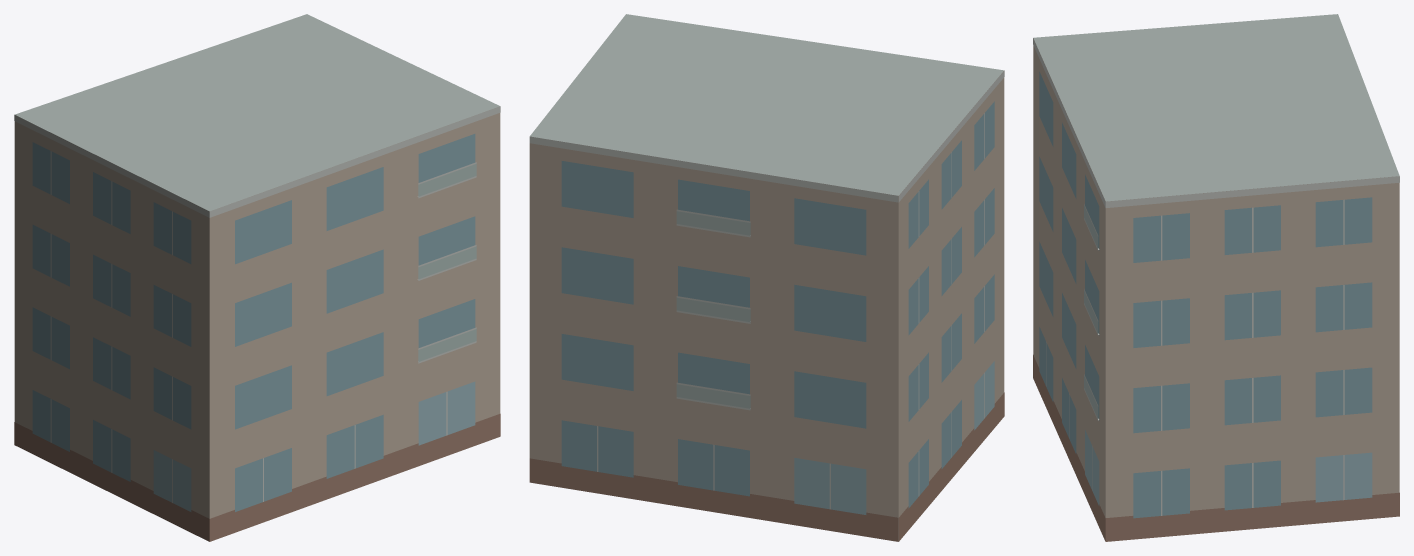
The model's file is survey-upis-32625859.glb.
The picture shows the model from 3 angles, left to right: view 1: azimuth 30°, elevation 25°; view 2: azimuth 150°, elevation 25°; view 3: azimuth 270°, elevation 25°; orthographic projection. The views are drawn at different scales.
Parts seen in each view (by area): view 1: survey-upis-32625859.tmp; view 2: survey-upis-32625859.tmp; view 3: survey-upis-32625859.tmp.
Boxes of the visible parts, x1=… form: survey-upis-32625859.tmp: x1=14, y1=14, x2=500, y2=541; survey-upis-32625859.tmp: x1=529, y1=14, x2=1004, y2=541; survey-upis-32625859.tmp: x1=1033, y1=14, x2=1399, y2=541.
Size of the model in its own units: 14.78 by 12.5 by 12.22.
